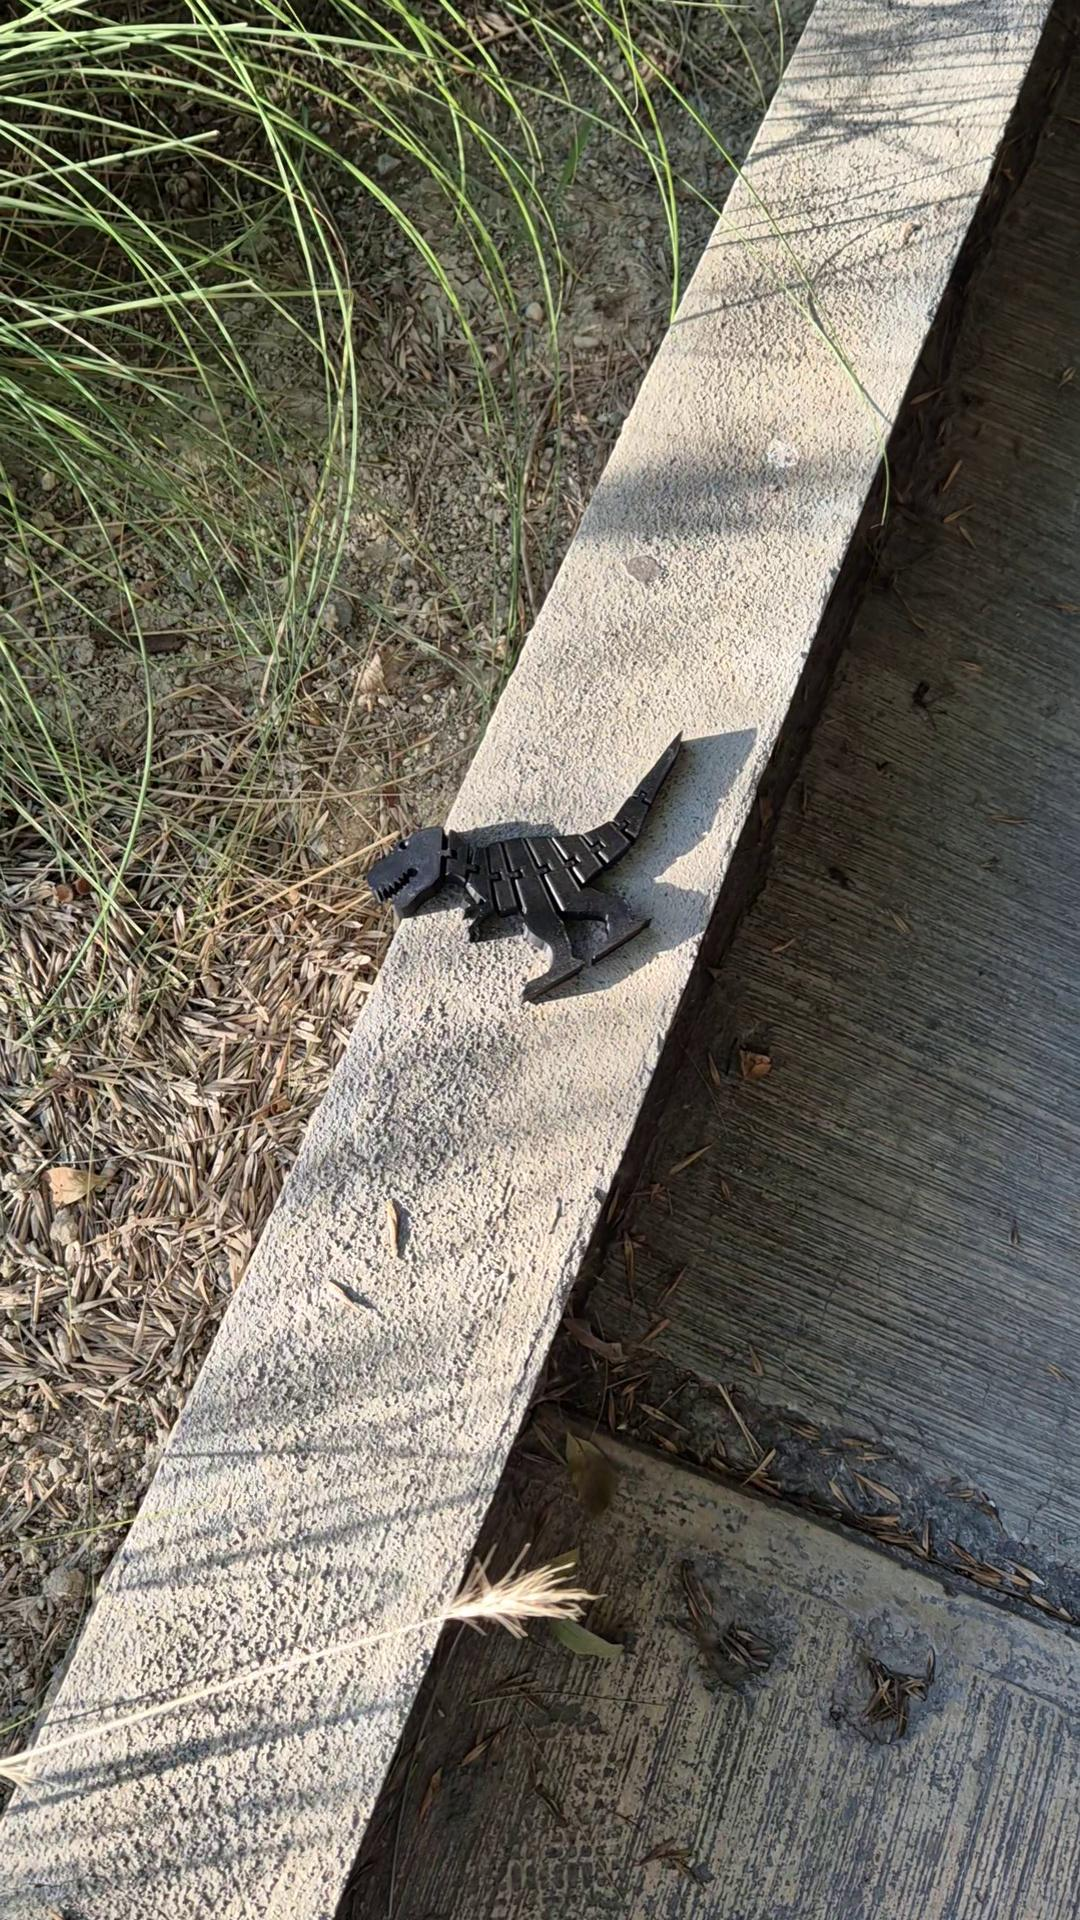dinosaur: (365, 729, 686, 1006)
